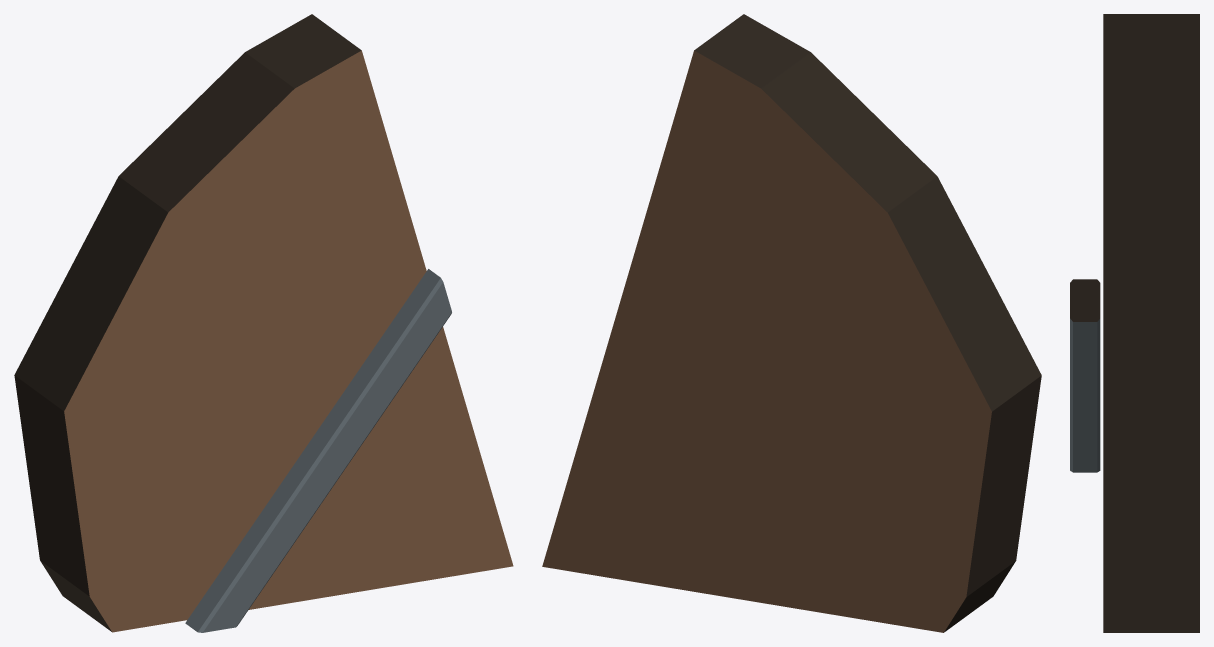
File: SM_DoorShard_03_62.fbx
The picture shows the model from 3 angles, left to right: view 1: azimuth 30°, elevation 25°; view 2: azimuth 150°, elevation 25°; view 3: azimuth 270°, elevation 25°; orthographic projection. The views are drawn at different scales.
Visible parts, largest first — view 1: SM_DoorShard_03_62; view 2: SM_DoorShard_03_62; view 3: SM_DoorShard_03_62.
Boxes of the visible parts, <box> form: SM_DoorShard_03_62: <box>14,14,513,632</box>; SM_DoorShard_03_62: <box>542,14,1041,632</box>; SM_DoorShard_03_62: <box>1070,14,1199,632</box>.
Size of the model in its own units: 83.44 by 21.5 by 98.1.
